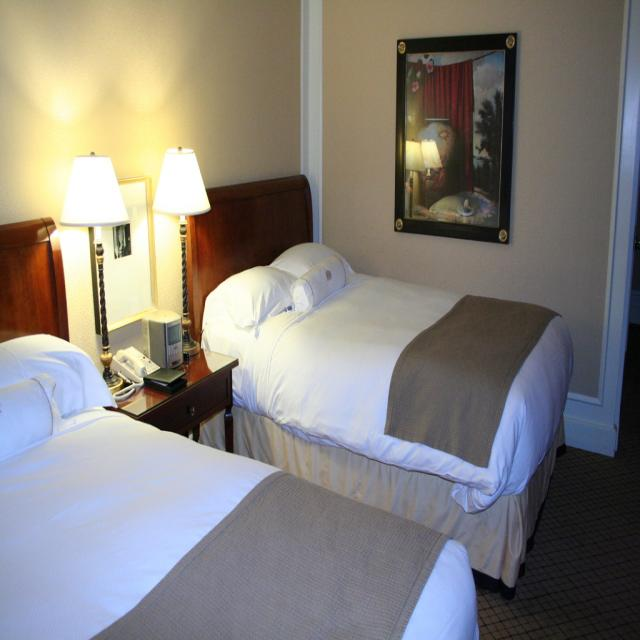Lamppost: (80, 147, 126, 400), (159, 142, 200, 362)
bed: (2, 396, 449, 639), (212, 270, 556, 461)
phone: (108, 335, 162, 403)
table: (116, 347, 260, 425)
